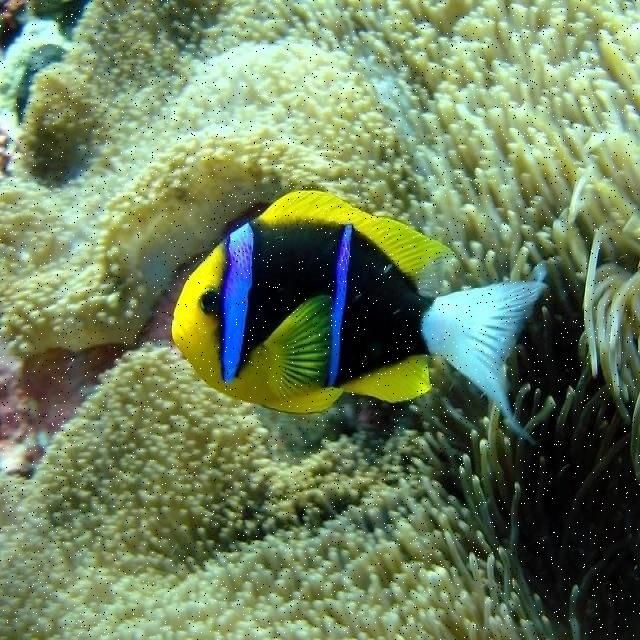fish: (173, 190, 548, 440)
reefs: (0, 0, 639, 422), (0, 342, 554, 639)
